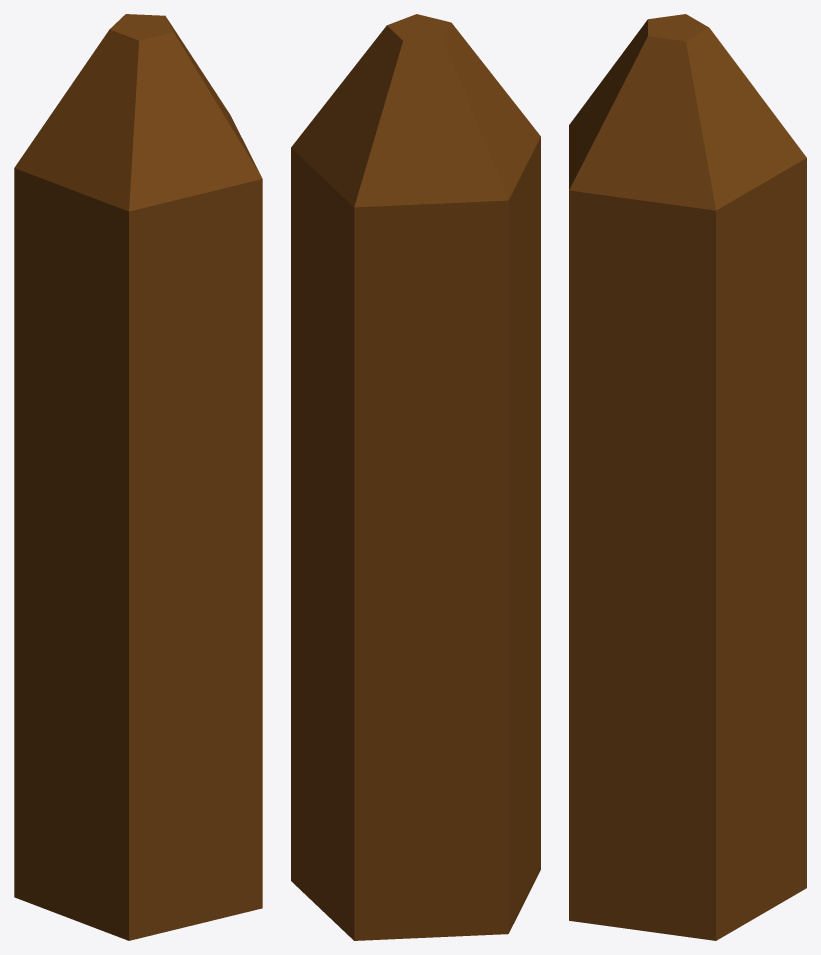
The model's file is Poteau.fbx.
3 renders of one model, left to right at view 1: azimuth 30°, elevation 25°; view 2: azimuth 150°, elevation 25°; view 3: azimuth 270°, elevation 25°, orthographic.
Parts seen in each view (by area): view 1: Poteau bois; view 2: Poteau bois; view 3: Poteau bois.
Boxes of the visible parts, left/top/right/bottom form: Poteau bois: left=14, top=14, right=262, bottom=940; Poteau bois: left=291, top=14, right=540, bottom=940; Poteau bois: left=569, top=14, right=806, bottom=940.
Bounding box in the file's own units: 62.99 × 239 × 59.91.
